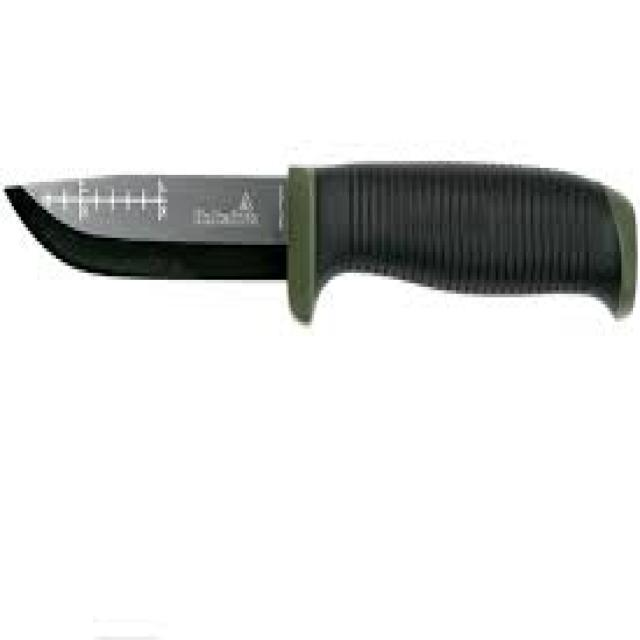knives: (0, 150, 638, 329)
